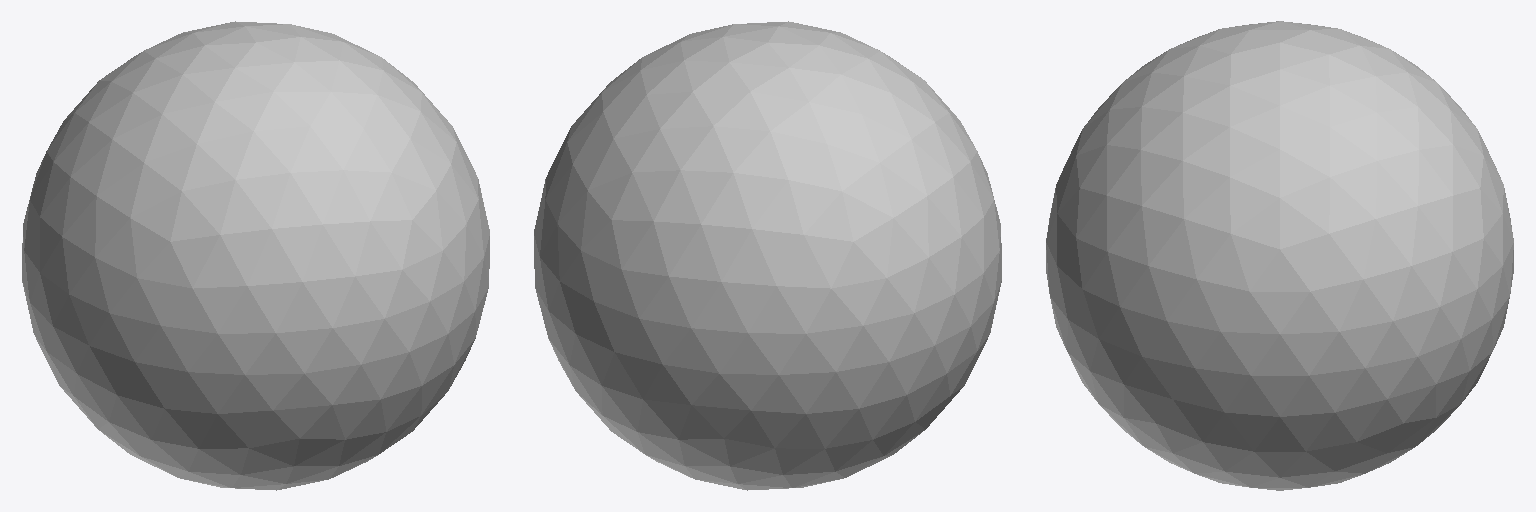
3 views of the same model, side by side, from view 1: azimuth 30°, elevation 25°; view 2: azimuth 150°, elevation 25°; view 3: azimuth 270°, elevation 25° (orthographic).
Parts seen in each view (by area): view 1: GeoSphere001; view 2: GeoSphere001; view 3: GeoSphere001.
Part boxes in pixels (bbox=[...]): GeoSphere001: bbox=[22, 21, 489, 490]; GeoSphere001: bbox=[534, 21, 1001, 490]; GeoSphere001: bbox=[1046, 21, 1513, 490].
Size of the model in its own units: 1.99 by 2 by 1.99.